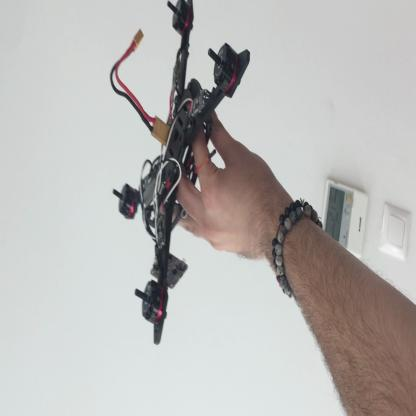drone: (101, 3, 256, 346)
